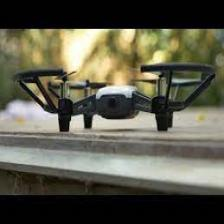drone: (14, 63, 215, 129)
